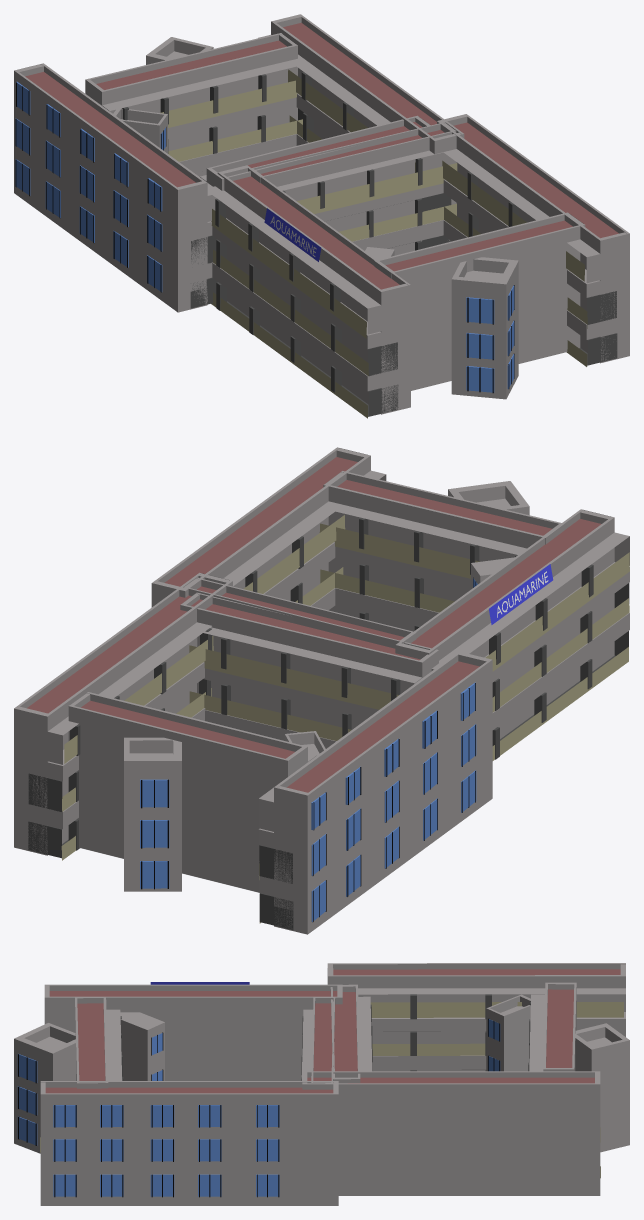
File: AQUAmarine.glb
3 renders of one model, top to bottom at view 1: azimuth 30°, elevation 25°; view 2: azimuth 150°, elevation 25°; view 3: azimuth 270°, elevation 25°, orthographic. The views are drawn at different scales.
Visible parts, largest first — view 1: Cube.201, Cube.001, Cube.013, Cube.003, Cube.008, Cube.014, Cube.007, Cube.042, Cube.012, Cube, Cube.049, Plane (+3 smaller); view 2: Cube.001, Cube.201, Cube.003, Cube.007, Cube.012, Cube.008, Cube.013, Cube.049, Cube.014, Cube.042, Plane, Cube.050 (+2 smaller); view 3: Cube.007, Cube.013, Cube.001, Cube.201, Cube.049, Cube.003, Cube.008, Cube.042, Cube.012, Cube, Cube.009, Cube.014 (+18 smaller).
Part boxes in pixels (x1=…): Cube.201: x1=207, y1=165, x2=410, y2=418; Cube.001: x1=14, y1=63, x2=217, y2=312; Cube.013: x1=437, y1=114, x2=629, y2=366; Cube.003: x1=85, y1=33, x2=304, y2=176; Cube.008: x1=374, y1=212, x2=585, y2=390; Cube.014: x1=249, y1=122, x2=457, y2=255; Cube.007: x1=258, y1=14, x2=464, y2=248; Cube.042: x1=451, y1=257, x2=518, y2=399; Cube.012: x1=200, y1=115, x2=430, y2=190; Cube: x1=113, y1=108, x2=167, y2=153; Cube.049: x1=146, y1=37, x2=213, y2=64; Plane: x1=264, y1=208, x2=321, y2=261; Cube.001: x1=258, y1=651, x2=492, y2=934; Cube.201: x1=395, y1=509, x2=629, y2=760; Cube.003: x1=68, y1=692, x2=316, y2=892; Cube.007: x1=14, y1=572, x2=232, y2=860; Cube.012: x1=180, y1=592, x2=438, y2=748; Cube.008: x1=319, y1=471, x2=564, y2=631; Cube.013: x1=151, y1=447, x2=386, y2=610; Cube.049: x1=124, y1=737, x2=181, y2=891; Cube.014: x1=183, y1=577, x2=416, y2=648; Cube.042: x1=448, y1=481, x2=529, y2=515; Plane: x1=489, y1=564, x2=553, y2=624; Cube.050: x1=140, y1=779, x2=169, y2=808; Cube.007: x1=302, y1=1071, x2=600, y2=1195; Cube.013: x1=40, y1=1081, x2=338, y2=1205; Cube.001: x1=327, y1=963, x2=625, y2=1071; Cube.201: x1=44, y1=984, x2=342, y2=1080; Cube.049: x1=575, y1=1023, x2=629, y2=1152; Cube.003: x1=528, y1=982, x2=576, y2=1071; Cube.008: x1=75, y1=996, x2=123, y2=1088; Cube.042: x1=14, y1=1023, x2=75, y2=1153; Cube.012: x1=330, y1=984, x2=372, y2=1083; Cube: x1=486, y1=994, x2=530, y2=1071; Cube.009: x1=120, y1=1012, x2=164, y2=1080; Cube.014: x1=301, y1=996, x2=335, y2=1083.
Size of the model in its own units: 24.46 by 9.99 by 48.05.
